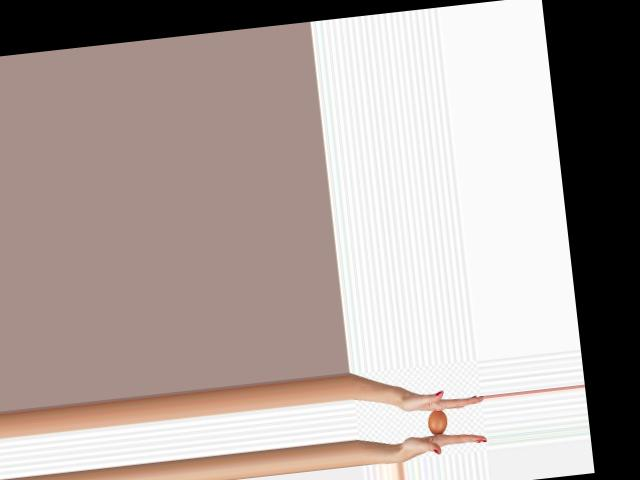egg: (426, 409, 447, 434)
